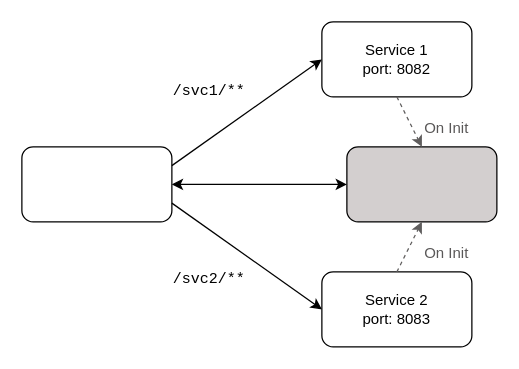
Some shapes in this 519 by 369 pixel diagram are drawn without their labels. The centre of each missing label's shape, as x and y in pixels:
Application Gateway port: 8080: (x=96, y=184)
Eureka Service Discovery port: 8081: (x=421, y=184)
